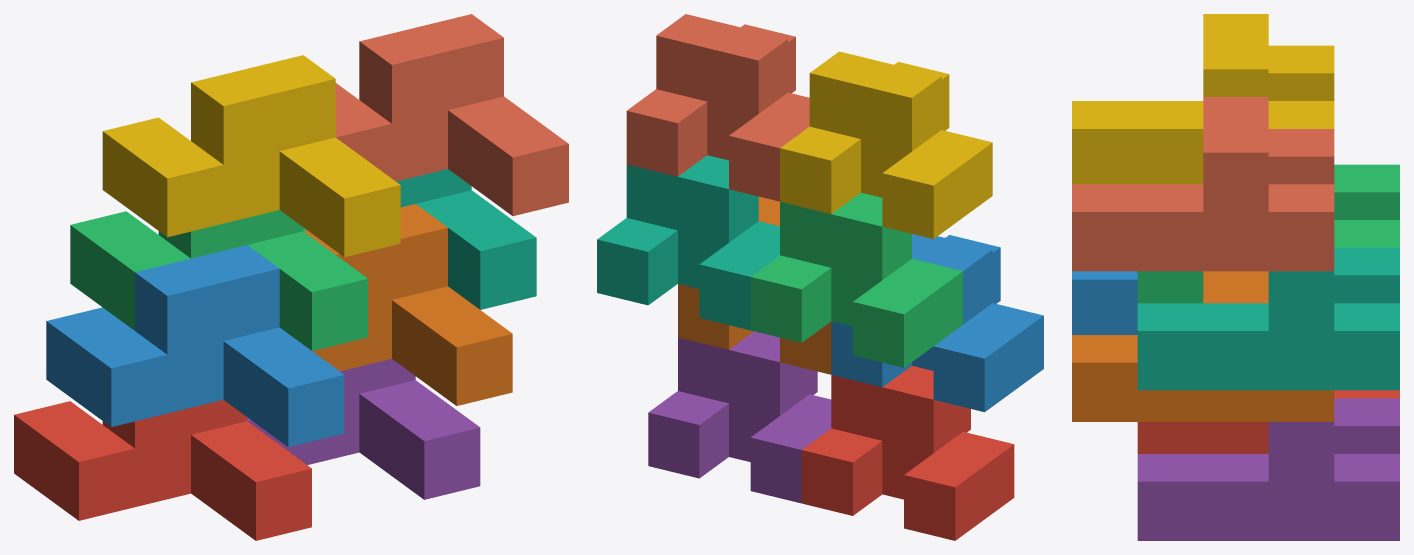
The model's file is tiling.obj.
3 views of the same model, side by side, from view 1: azimuth 30°, elevation 25°; view 2: azimuth 150°, elevation 25°; view 3: azimuth 270°, elevation 25° (orthographic). The views are drawn at different scales.
Parts seen in each view (by area): view 1: copy_1_domain_4, copy_1_domain_2, copy_1_domain_8, copy_1_domain_1, copy_1_domain_3, copy_1_domain_6, copy_1_domain_5, copy_1_domain_7; view 2: copy_1_domain_4, copy_1_domain_1, copy_1_domain_3, copy_1_domain_8, copy_1_domain_5, copy_1_domain_7, copy_1_domain_2, copy_1_domain_6; view 3: copy_1_domain_8, copy_1_domain_7, copy_1_domain_5, copy_1_domain_4, copy_1_domain_6, copy_1_domain_3, copy_1_domain_1, copy_1_domain_2.
Part boxes in pixels (box(x1,y1,x2,y2)): copy_1_domain_4: box(102, 55, 400, 257); copy_1_domain_2: box(46, 245, 344, 446); copy_1_domain_8: box(335, 14, 568, 215); copy_1_domain_1: box(14, 400, 311, 540); copy_1_domain_3: box(70, 210, 367, 350); copy_1_domain_6: box(303, 204, 512, 405); copy_1_domain_5: box(247, 359, 480, 499); copy_1_domain_7: box(303, 169, 536, 309); copy_1_domain_4: box(780, 51, 992, 238); copy_1_domain_1: box(801, 366, 1014, 540); copy_1_domain_3: box(750, 192, 962, 367); copy_1_domain_8: box(626, 14, 809, 201); copy_1_domain_5: box(648, 331, 831, 503); copy_1_domain_7: box(597, 155, 779, 330); copy_1_domain_2: box(831, 234, 1043, 412); copy_1_domain_6: box(678, 196, 831, 374); copy_1_domain_8: box(1072, 97, 1334, 271); copy_1_domain_7: box(1137, 247, 1399, 390); copy_1_domain_5: box(1137, 398, 1399, 540); copy_1_domain_4: box(1072, 14, 1334, 184); copy_1_domain_6: box(1072, 271, 1334, 421); copy_1_domain_3: box(1137, 164, 1399, 303); copy_1_domain_1: box(1137, 390, 1399, 453); copy_1_domain_2: box(1072, 271, 1137, 334).
Bounding box in the file's own units: 7 × 7 × 5.
